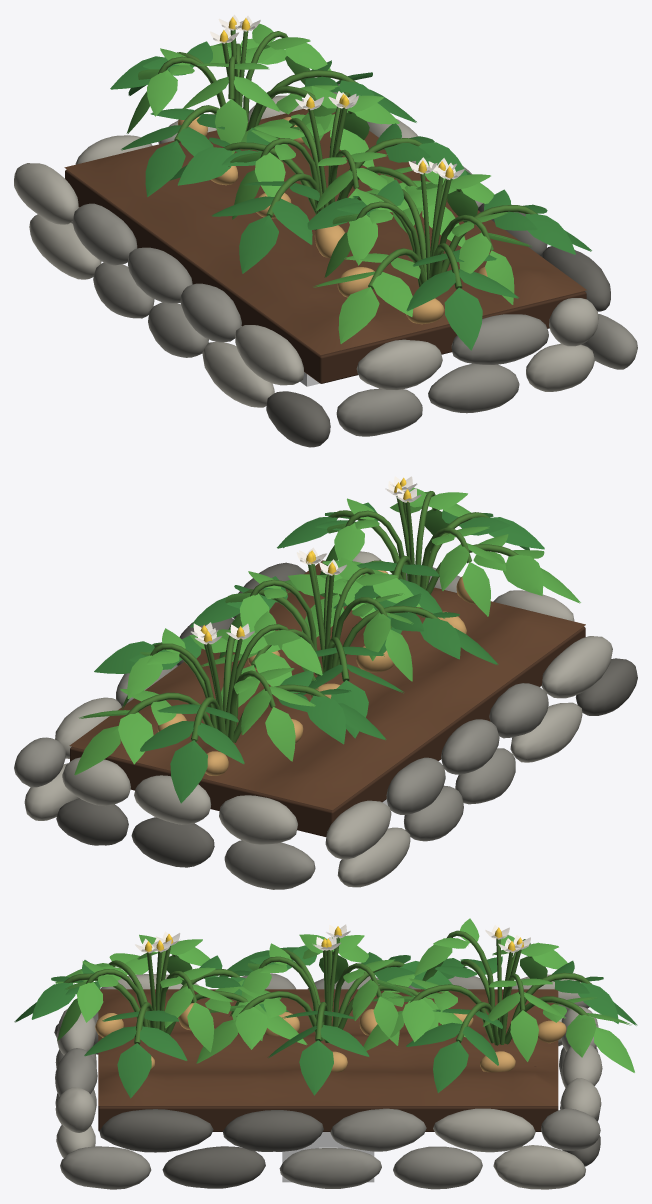
File: BedStone.fbx
3 views of the same model, one above another, from view 1: azimuth 30°, elevation 25°; view 2: azimuth 150°, elevation 25°; view 3: azimuth 270°, elevation 25° (orthographic). The views are drawn at different scales.
Visible parts, largest first — view 1: Body__Soil, Body__Stone, Body__StoneLight, Bush/Plant0__Leaf, Bush/Plant2__Leaf, Bush/Plant1__Leaf, Bush/Plant1__LeafDark, Body__SoilDark, Bush/Plant0__LeafDark, Bush/Plant2__LeafDark, Body__StoneDark, Bush/Plant0__Stem (+3 smaller); view 2: Body__Soil, Body__StoneLight, Body__Stone, Bush/Plant2__Leaf, Body__StoneDark, Bush/Plant0__Leaf, Bush/Plant2__LeafDark, Bush/Plant1__Leaf, Body__SoilDark, Bush/Plant1__LeafDark, Bush/Plant2__Stem, Bush/Plant1__Stem (+3 smaller); view 3: Body__Soil, Body__Stone, Body__StoneLight, Body__StoneDark, Bush/Plant2__Leaf, Bush/Plant1__Leaf, Bush/Plant0__Leaf, Bush/Plant0__LeafDark, Bush/Plant2__LeafDark, Body__SoilDark, Bush/Plant1__LeafDark, Bush/Plant2__Stem (+5 smaller).
Boxes of the visible parts, box(x1,y1,x2,y2) form: Body__Soil: box(64, 108, 586, 354); Body__Stone: box(71, 84, 637, 436); Body__StoneLight: box(14, 95, 598, 407); Bush/Plant0__Leaf: box(313, 164, 531, 343); Bush/Plant2__Leaf: box(126, 23, 374, 167); Bush/Plant1__Leaf: box(228, 86, 465, 246); Bush/Plant1__LeafDark: box(169, 123, 470, 273); Body__SoilDark: box(65, 169, 586, 383); Bush/Plant0__LeafDark: box(307, 179, 591, 350); Bush/Plant2__LeafDark: box(110, 41, 416, 196); Body__StoneDark: box(266, 203, 610, 447); Bush/Plant0__Stem: box(356, 173, 537, 289); Body__Soil: box(69, 560, 585, 810); Body__StoneLight: box(24, 551, 612, 887); Body__Stone: box(14, 567, 548, 889); Bush/Plant2__Leaf: box(74, 611, 322, 775); Body__StoneDark: box(56, 562, 637, 867); Bush/Plant0__Leaf: box(286, 487, 580, 637); Bush/Plant2__LeafDark: box(94, 634, 386, 803); Bush/Plant1__Leaf: box(201, 557, 420, 707); Body__SoilDark: box(70, 626, 585, 836); Bush/Plant1__LeafDark: box(190, 576, 498, 738); Bush/Plant2__Stem: box(119, 624, 328, 742); Bush/Plant1__Stem: box(243, 564, 439, 681); Body__Soil: box(98, 989, 558, 1105); Body__Stone: box(55, 973, 600, 1189); Body__StoneLight: box(55, 974, 602, 1189); Body__StoneDark: box(54, 1012, 600, 1188); Bush/Plant2__Leaf: box(363, 918, 634, 1072); Bush/Plant1__Leaf: box(196, 934, 465, 1063); Bush/Plant0__Leaf: box(55, 934, 307, 1052); Bush/Plant0__LeafDark: box(14, 955, 289, 1098); Bush/Plant2__LeafDark: box(406, 956, 637, 1092); Body__SoilDark: box(98, 1066, 558, 1131); Bush/Plant1__LeafDark: box(227, 945, 452, 1095); Bush/Plant2__Stem: box(410, 930, 596, 1045).
Size of the model in its own units: 3.94 by 2.8 by 6.78.
